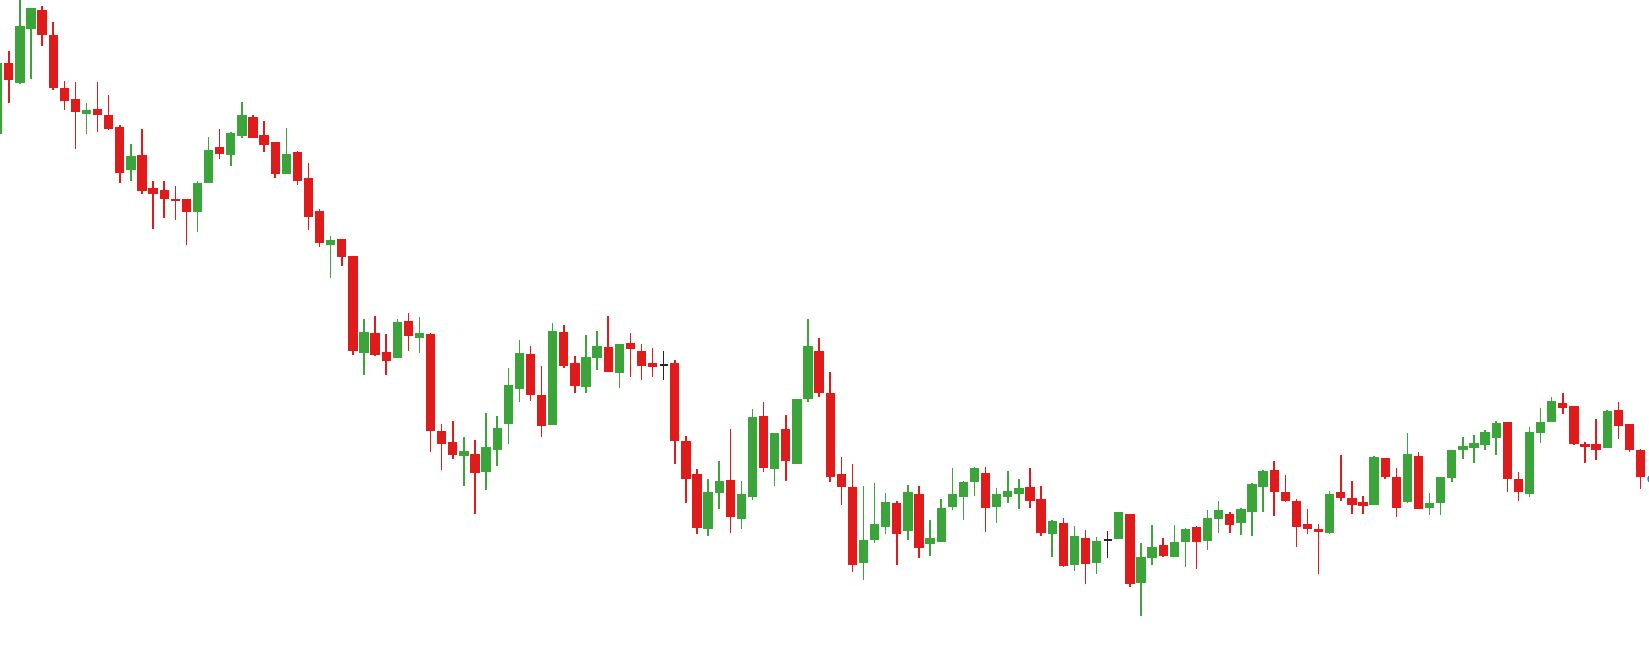buy: (471, 409, 716, 543), (1224, 488, 1335, 575)
